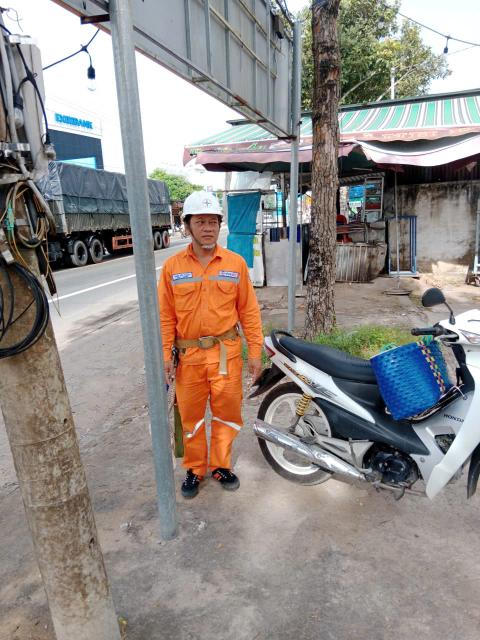harness: (175, 322, 233, 353)
helmet: (169, 188, 234, 220)
shoes: (205, 465, 260, 492), (175, 455, 203, 507)
